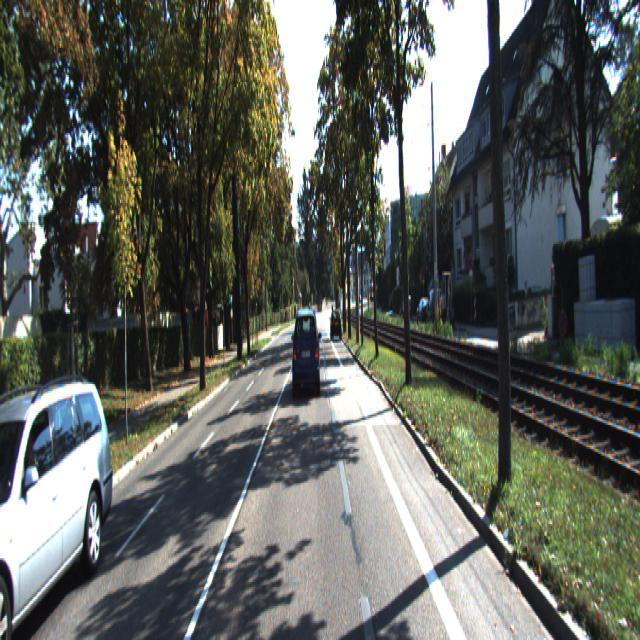Car: (0, 366, 121, 638), (292, 304, 322, 398), (440, 267, 454, 324), (426, 284, 444, 324), (417, 294, 434, 324), (331, 307, 342, 340)
